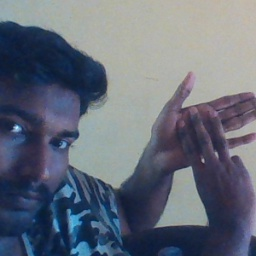M: (145, 70, 256, 227)
